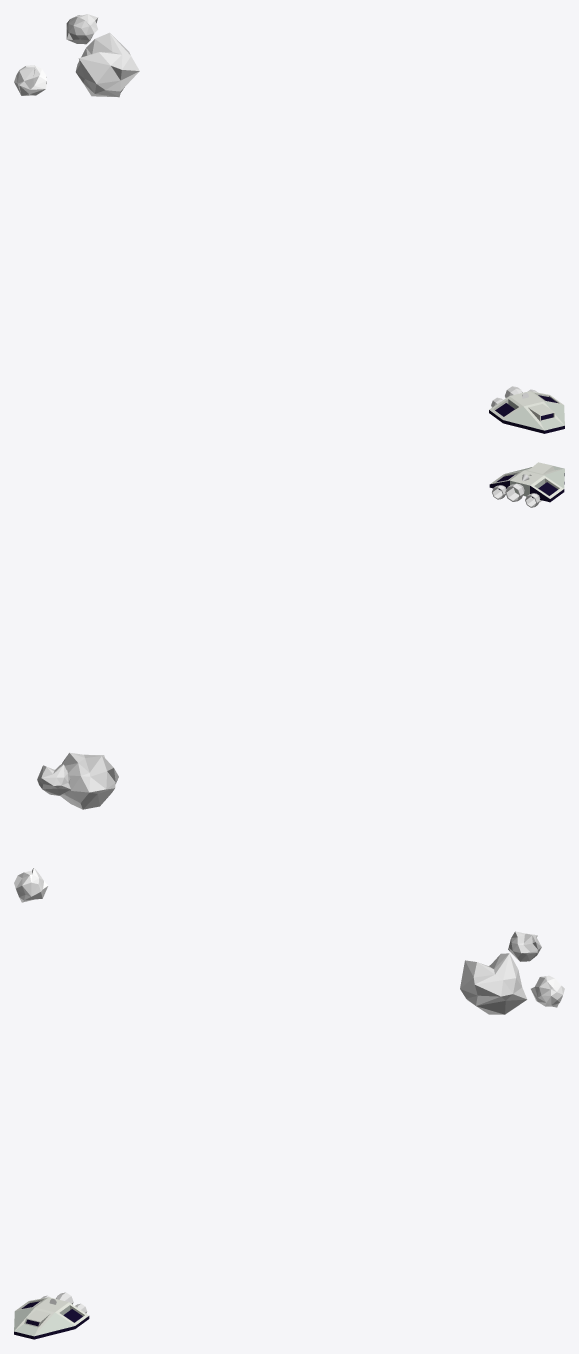
File: spaceship.glb
The picture shows the model from 3 angles, top to bottom: view 1: azimuth 30°, elevation 25°; view 2: azimuth 150°, elevation 25°; view 3: azimuth 330°, elevation 25°; orthographic projection.
Parts seen in each view (by area): view 1: big_asteroid, spaceship, small_asteroid_1, small_asteroid_2; view 2: big_asteroid, spaceship, small_asteroid_1, small_asteroid_2; view 3: big_asteroid, spaceship, small_asteroid_1, small_asteroid_2.
Boxes of the visible parts, box(x1,y1,x2,y2) form: big_asteroid: box(75, 32, 139, 97); spaceship: box(489, 391, 564, 433); small_asteroid_1: box(14, 65, 46, 95); small_asteroid_2: box(66, 14, 97, 44); big_asteroid: box(60, 752, 118, 809); spaceship: box(489, 462, 564, 502); small_asteroid_1: box(14, 867, 47, 902); small_asteroid_2: box(37, 764, 70, 795); big_asteroid: box(460, 953, 527, 1014); spaceship: box(14, 1297, 89, 1339); small_asteroid_1: box(531, 975, 564, 1007); small_asteroid_2: box(508, 931, 541, 961).
Bounding box in the file's own units: 2.34 × 3.39 × 30.31.
